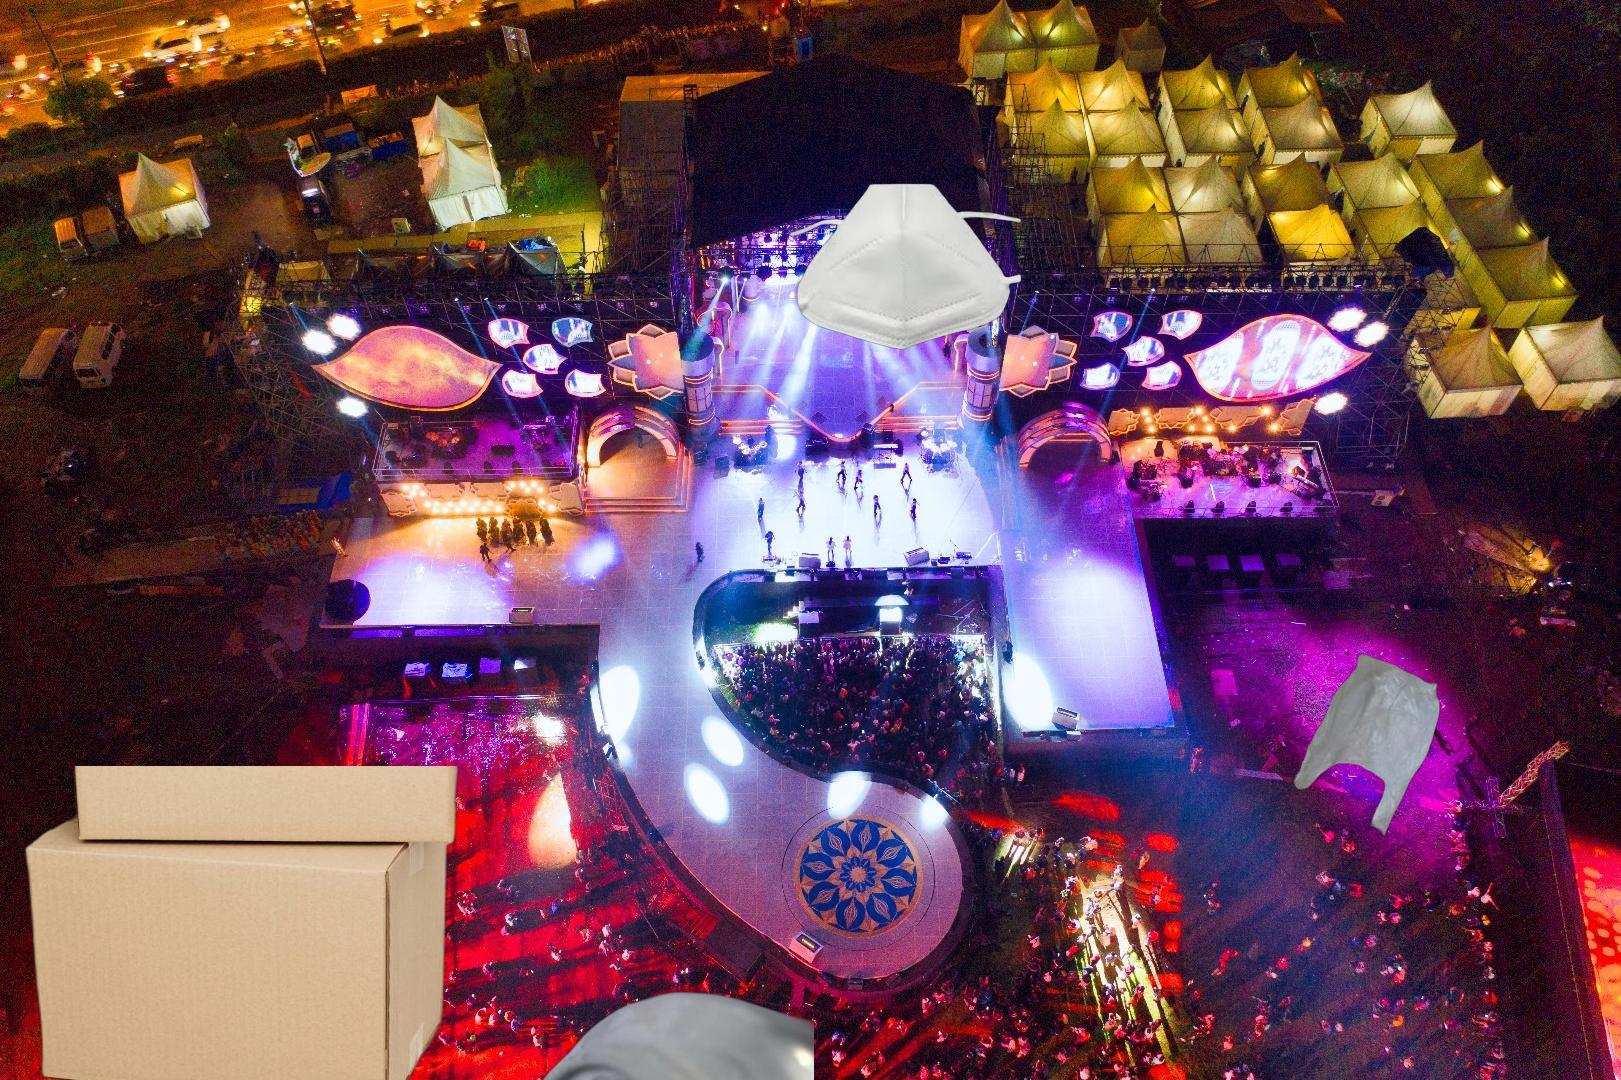metal-cans: (503, 987, 814, 1080)
plastic-bag: (1290, 652, 1443, 844)
trash: (789, 181, 1024, 352)
trashbox-cardboard: (19, 765, 464, 1080)
